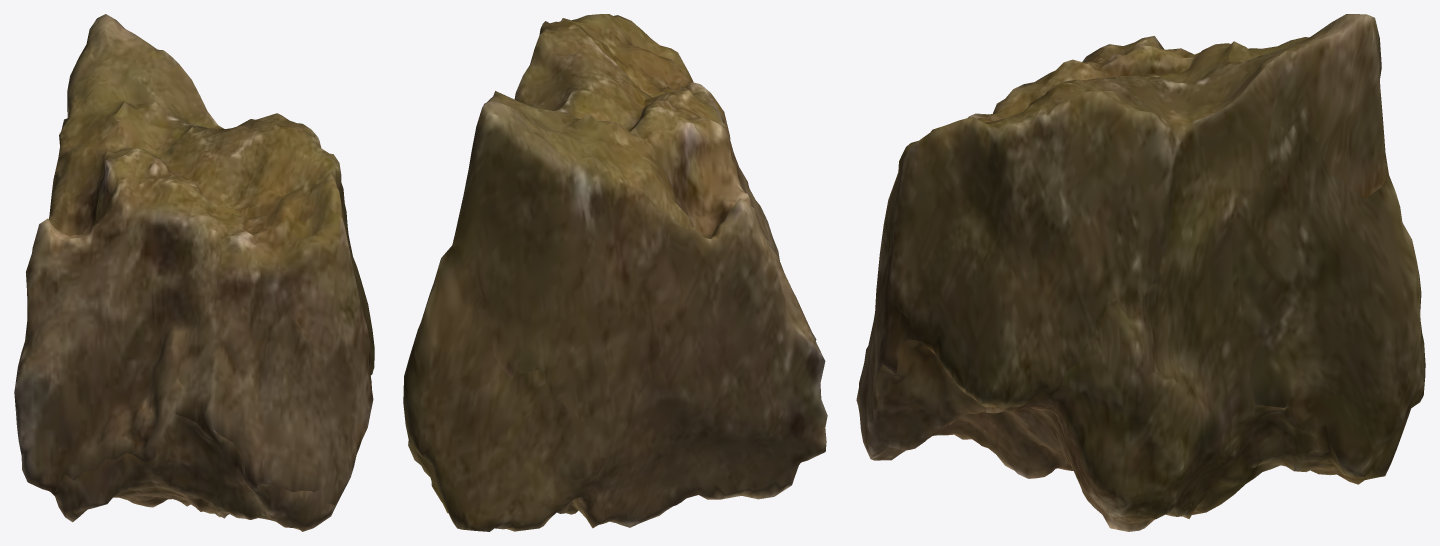
Rendered from stone_f.glb.
3 views of the same model, side by side, from view 1: azimuth 30°, elevation 25°; view 2: azimuth 150°, elevation 25°; view 3: azimuth 270°, elevation 25° (orthographic). The views are drawn at different scales.
Visible parts, largest first — view 1: rock_moss_set_01_rock06.001; view 2: rock_moss_set_01_rock06.001; view 3: rock_moss_set_01_rock06.001.
Part boxes in pixels (x1,y1,x2,y2): rock_moss_set_01_rock06.001: (14,14,374,531); rock_moss_set_01_rock06.001: (403,14,827,531); rock_moss_set_01_rock06.001: (856,14,1425,531).
Size of the model in its own units: 2.12 by 2.67 by 2.75.
1 material, 1 textured.
